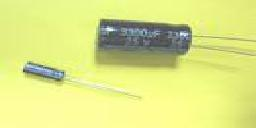Electrolytic Capacitor: (96, 15, 256, 66), (21, 59, 147, 106)
